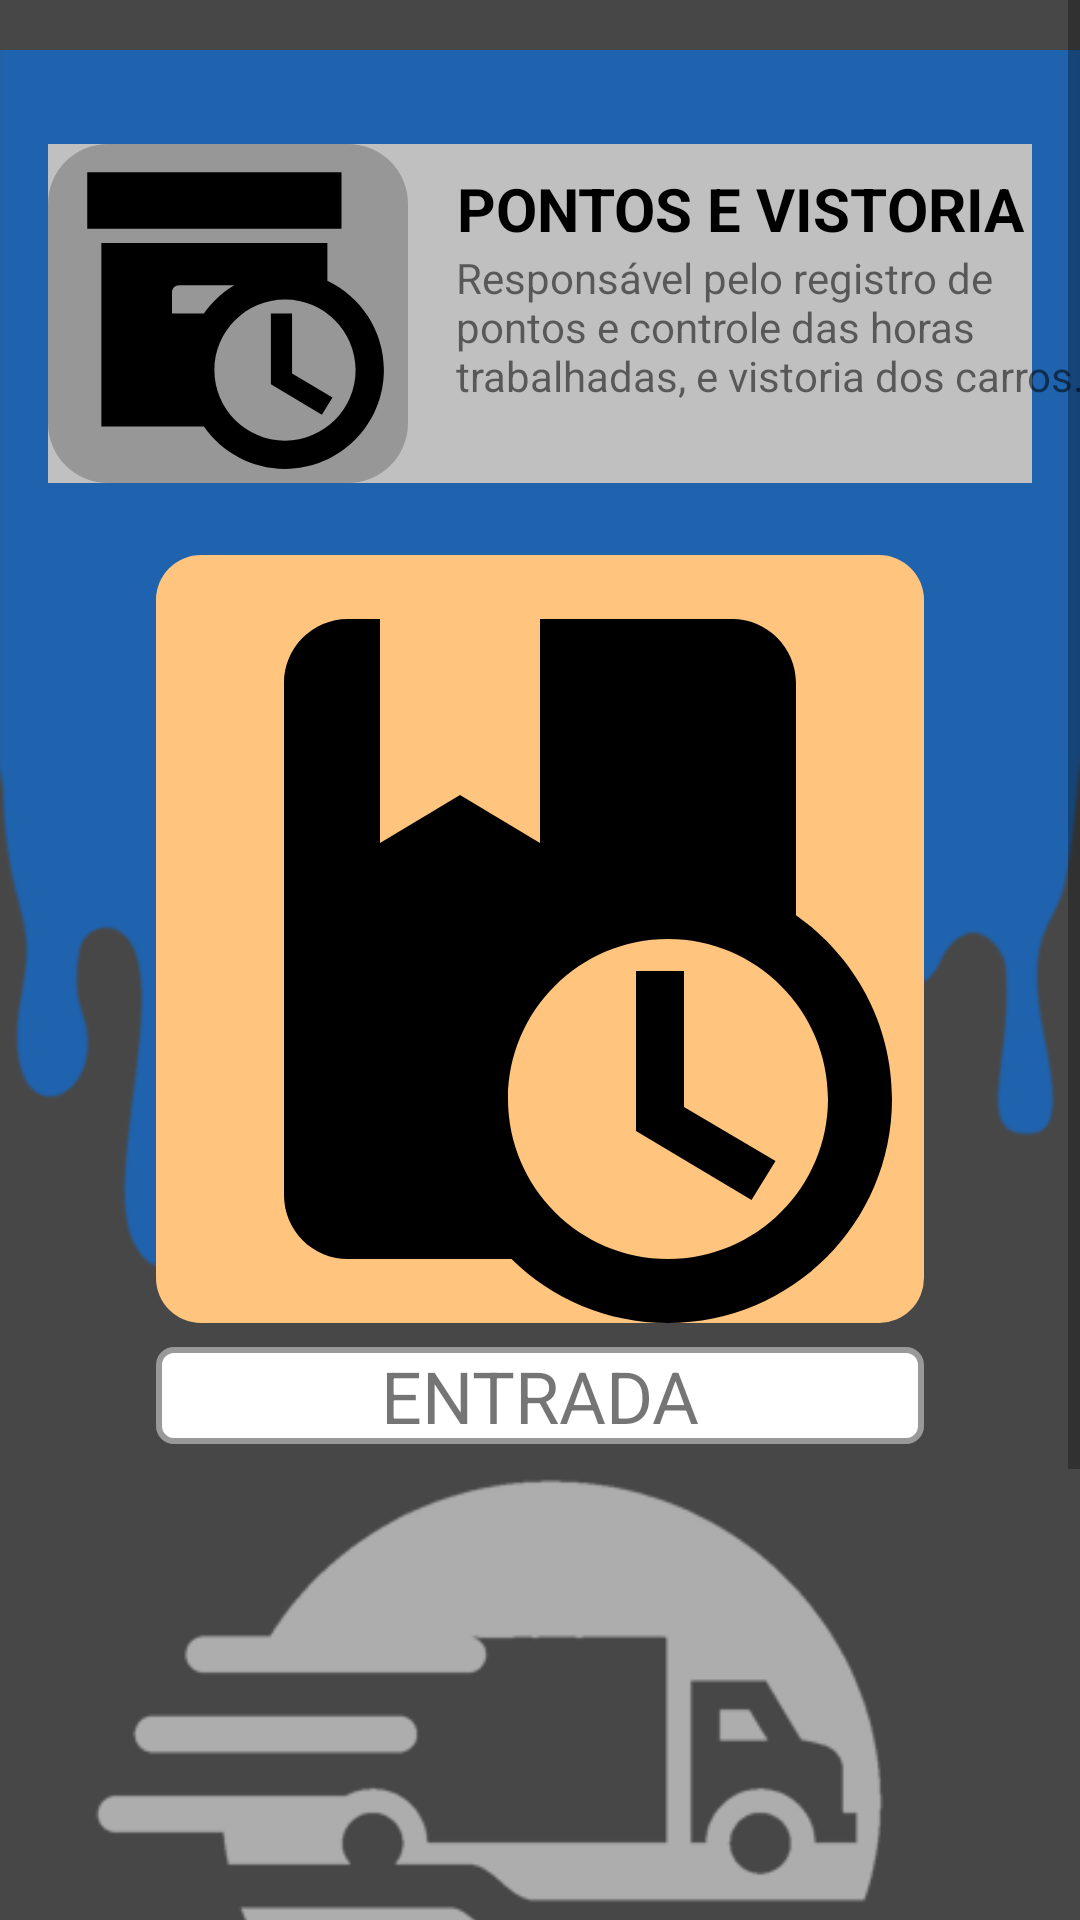

Locate icon controls on the screen. Image size 1080x1920, boxes as (x1, y1, x2, y2).
archive clock: (48, 144, 408, 483)
